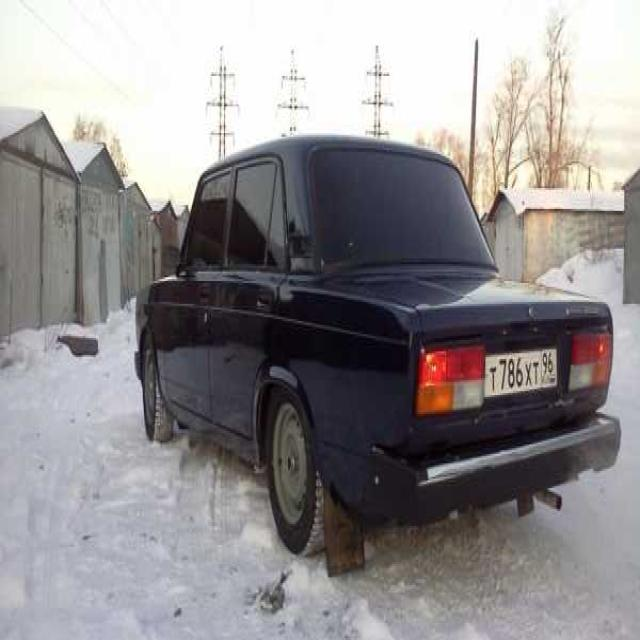number-plates: (484, 348, 559, 402)
